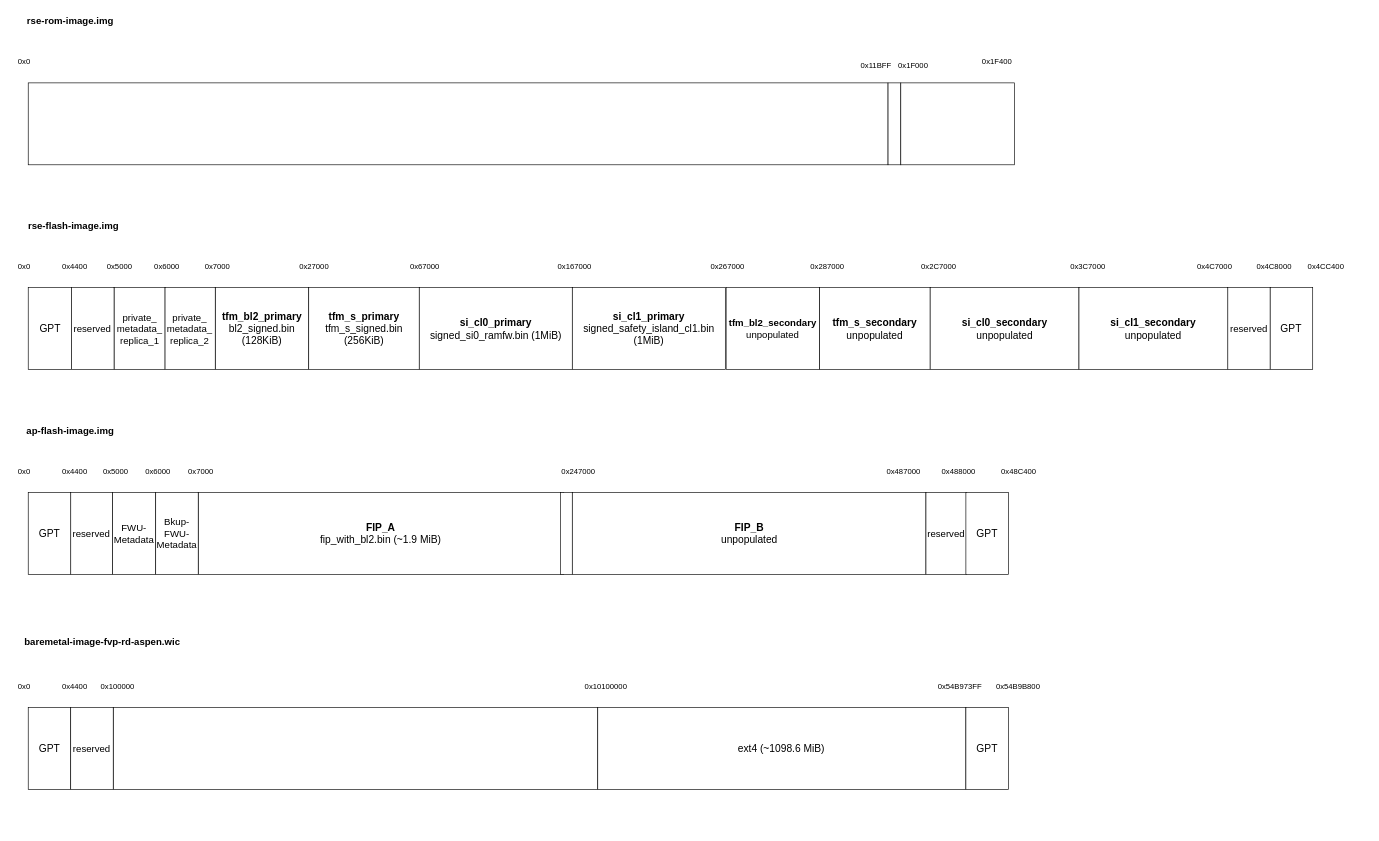
Image size: 1379x841. Some labels were removed from this diagram. Here are the shapes that lost their labels. From the top down, the box of each, then its label:
(28, 82, 888, 165): bl1_1 bl1_1.bin (71 KiB)
(900, 82, 1014, 165): dma_ics rom_dma_ics .bin (1 KiB)
(113, 707, 598, 789): fat16 (256 MiB)
